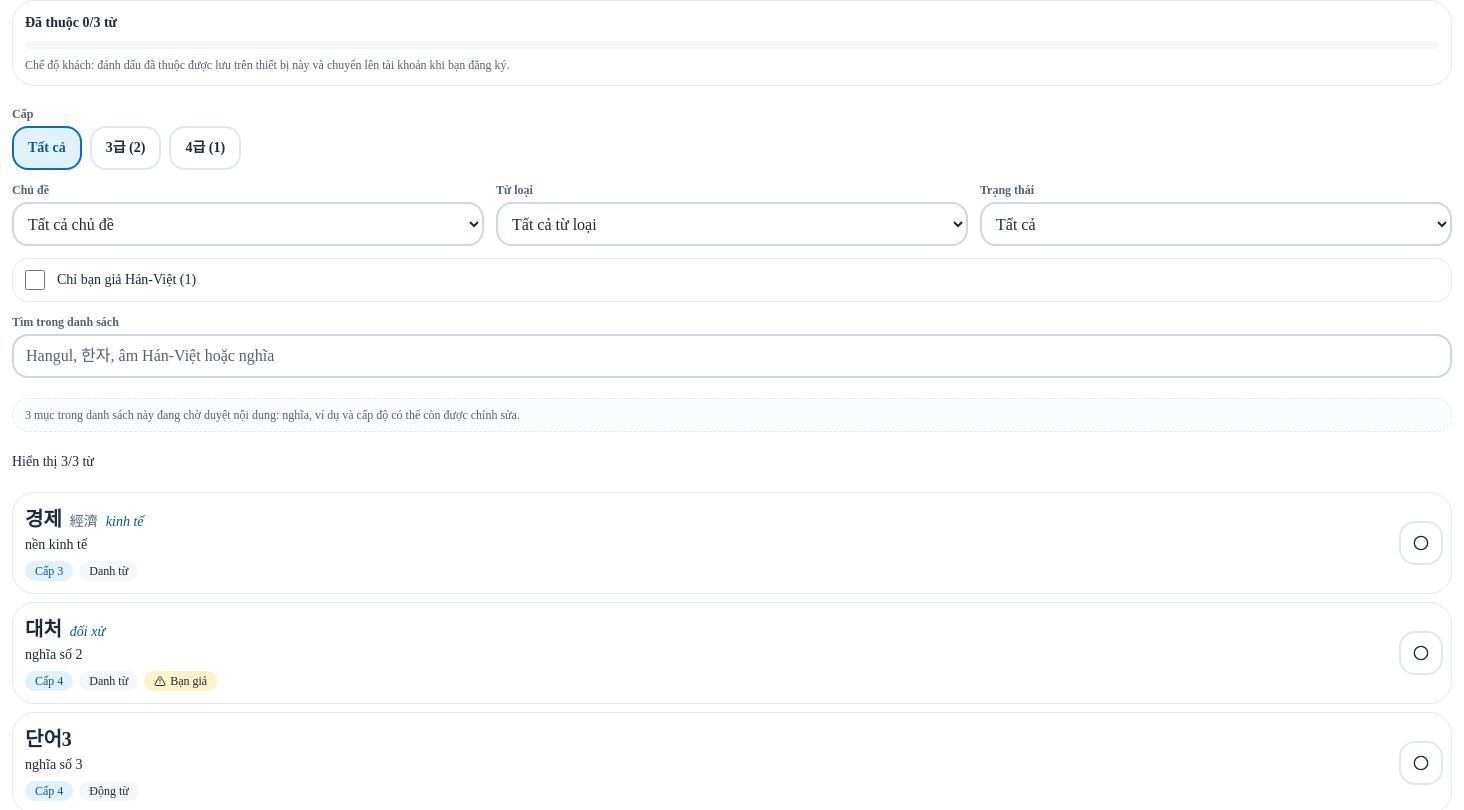
Test: VocabBrowser › đánh dấu đã thuộc cập nhật bộ đếm tiến độ và lọc theo trạng thái
Click the button named "Đánh dấu đã thuộc: 경제": coordinates (1421, 543) [1399,521,1443,565]
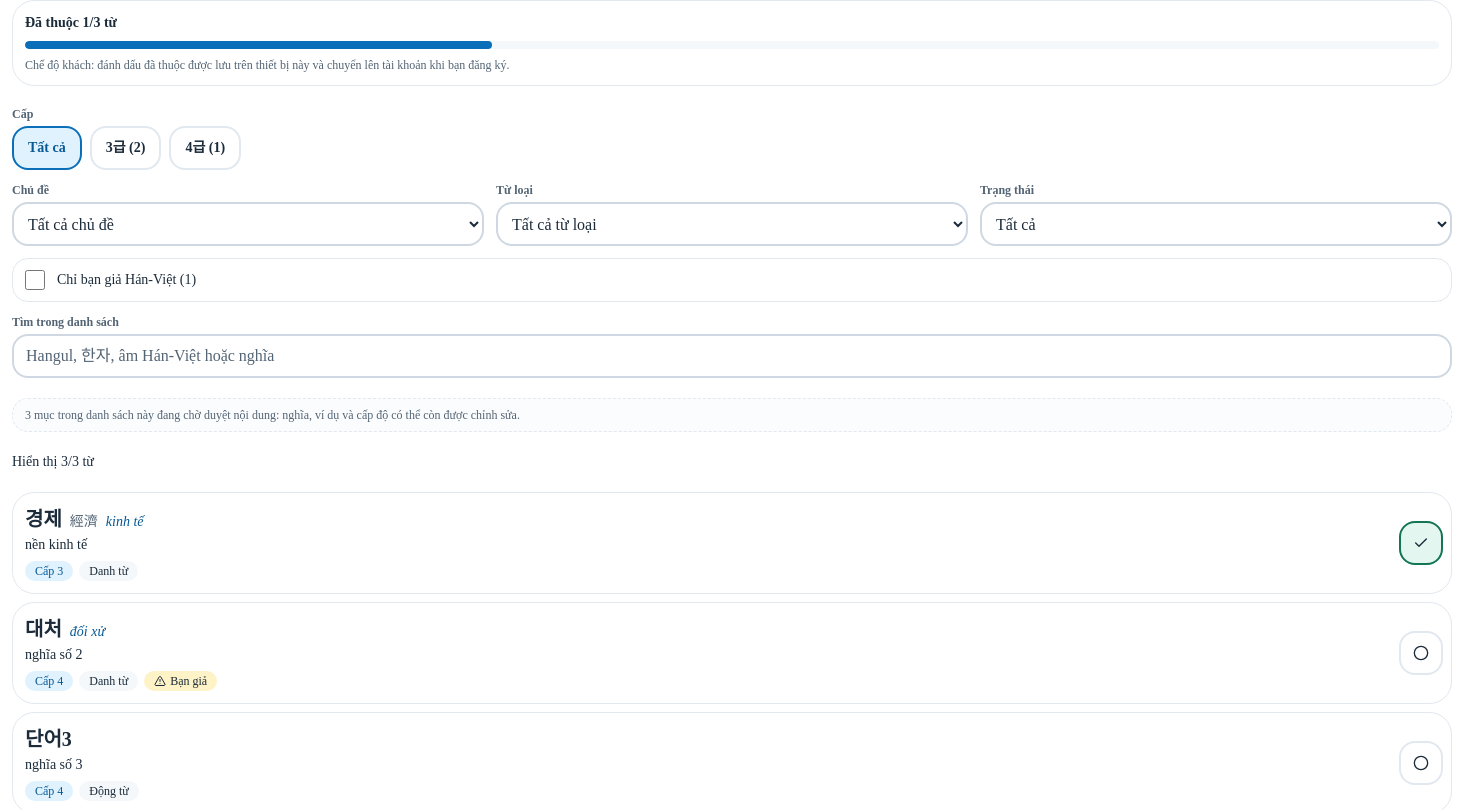
Result: the text "Đã thuộc 1/3 từ" is shown at [25,15,117,30]
Select "Đã thuộc" in the dropdown labelled "Trạng thái": coordinates (1216, 224) [980,202,1452,246]
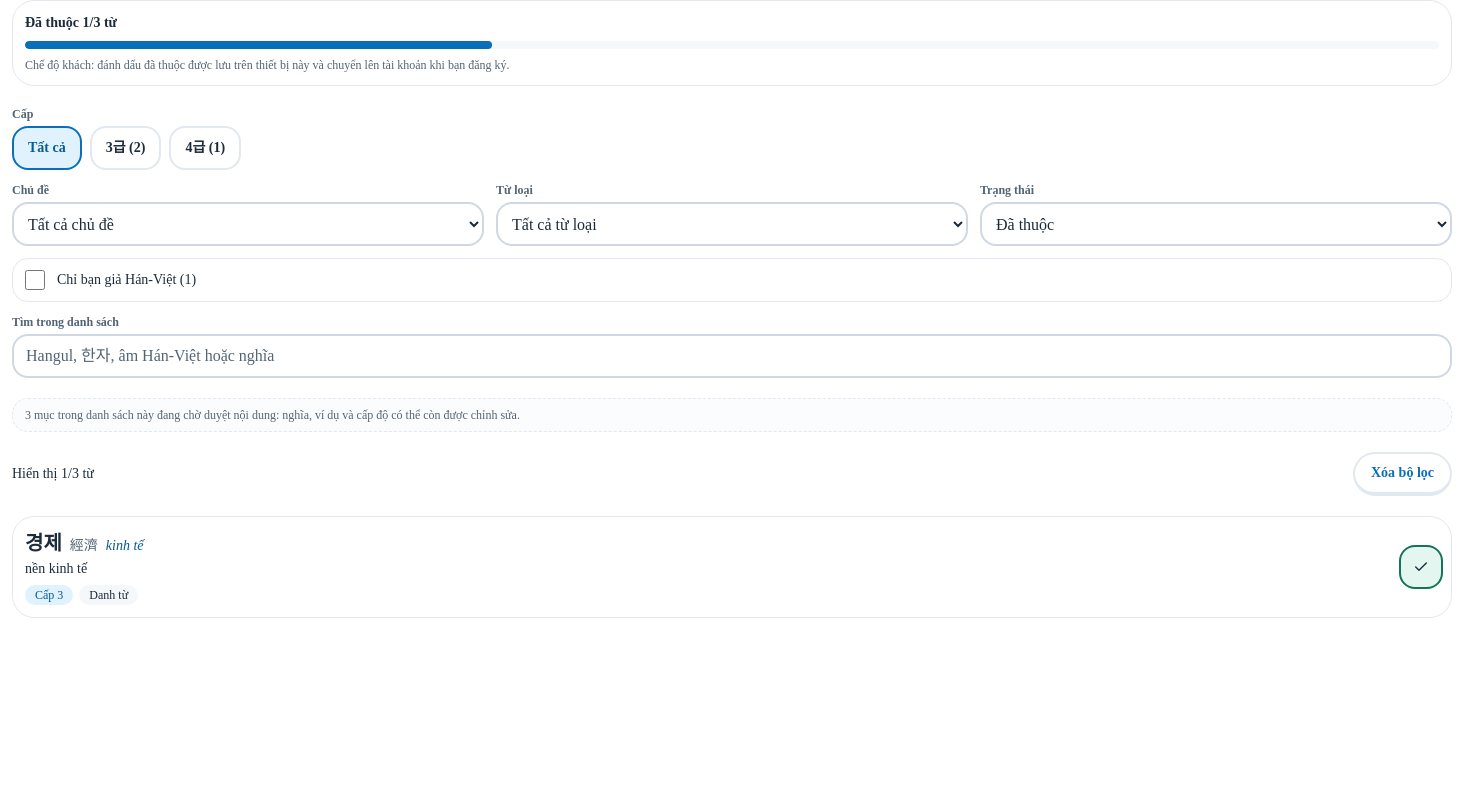
Result: the text "Hiển thị 1/3 từ" is shown at [12,464,94,484]
Result: the number of list items is 1 at [12,516,1452,618]
